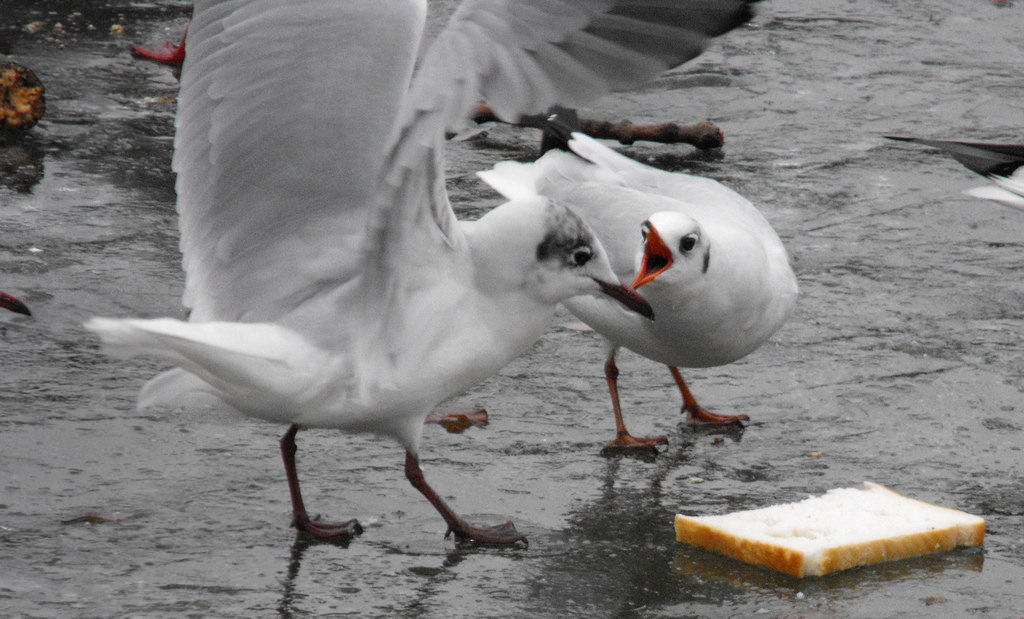slice of bread: (667, 477, 1001, 573)
